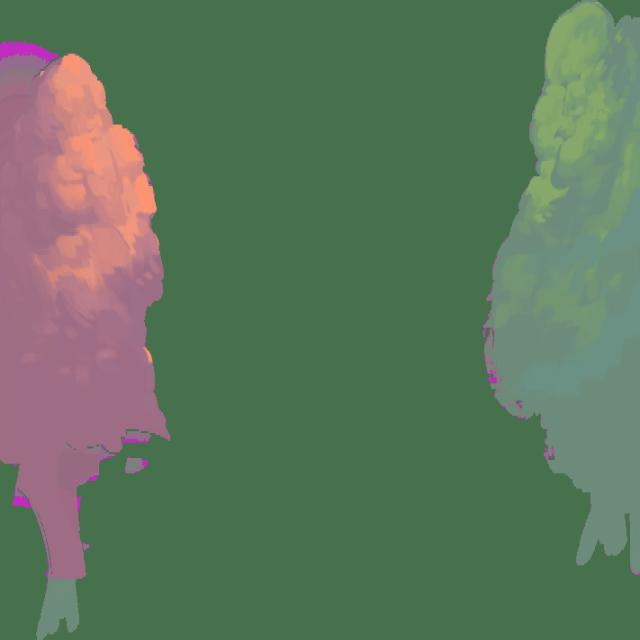Trees: (0, 38, 170, 636), (482, 0, 639, 575)
